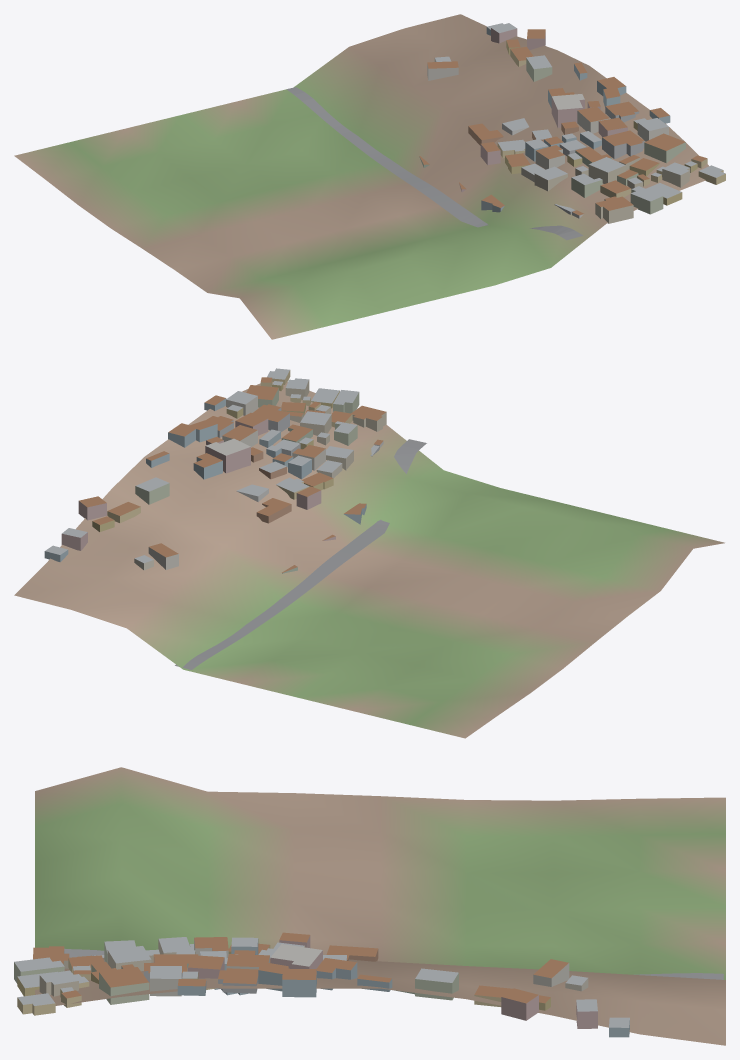
The picture shows the model from 3 angles, top to bottom: view 1: azimuth 30°, elevation 25°; view 2: azimuth 150°, elevation 25°; view 3: azimuth 270°, elevation 25°; orthographic projection. The views are drawn at different scales.
Parts seen in each view (by area): view 1: Lo; view 2: Lo; view 3: Lo.
Boxes of the visible parts, x1,y1,x2,y2 form: Lo: [14, 14, 725, 339]; Lo: [14, 368, 724, 738]; Lo: [14, 767, 725, 1045].
Bounding box in the file's own units: 262 × 46.16 × 264.
